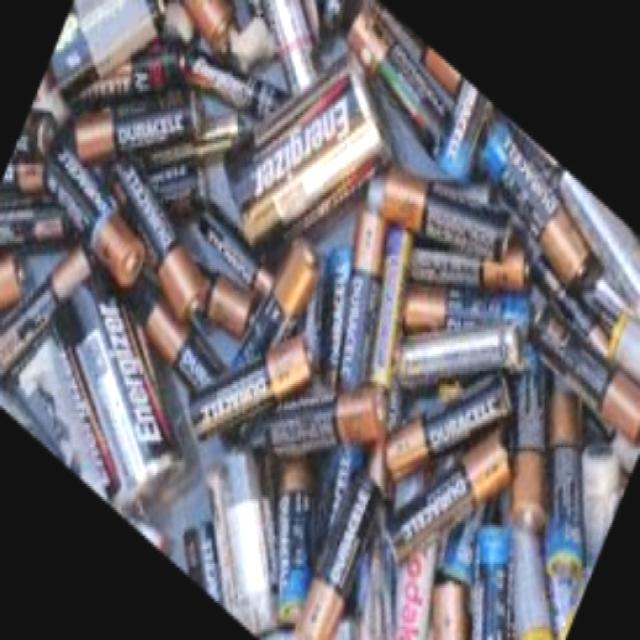B3: (230, 68, 382, 250), (66, 281, 180, 510), (110, 162, 231, 340), (476, 123, 598, 296), (343, 5, 463, 164), (291, 458, 383, 640), (188, 204, 296, 356), (388, 431, 512, 551), (188, 334, 318, 446), (385, 376, 511, 471), (530, 300, 621, 431), (214, 451, 276, 637), (388, 204, 516, 294), (545, 388, 587, 632), (0, 265, 68, 394), (345, 204, 389, 393), (394, 320, 520, 382), (65, 53, 188, 112), (253, 388, 348, 461), (99, 93, 202, 160), (405, 278, 528, 334), (432, 78, 496, 185), (510, 369, 548, 534), (180, 55, 270, 120), (258, 2, 320, 96), (315, 244, 353, 391), (473, 524, 512, 638), (184, 517, 224, 611), (0, 196, 69, 250), (136, 156, 203, 209)
